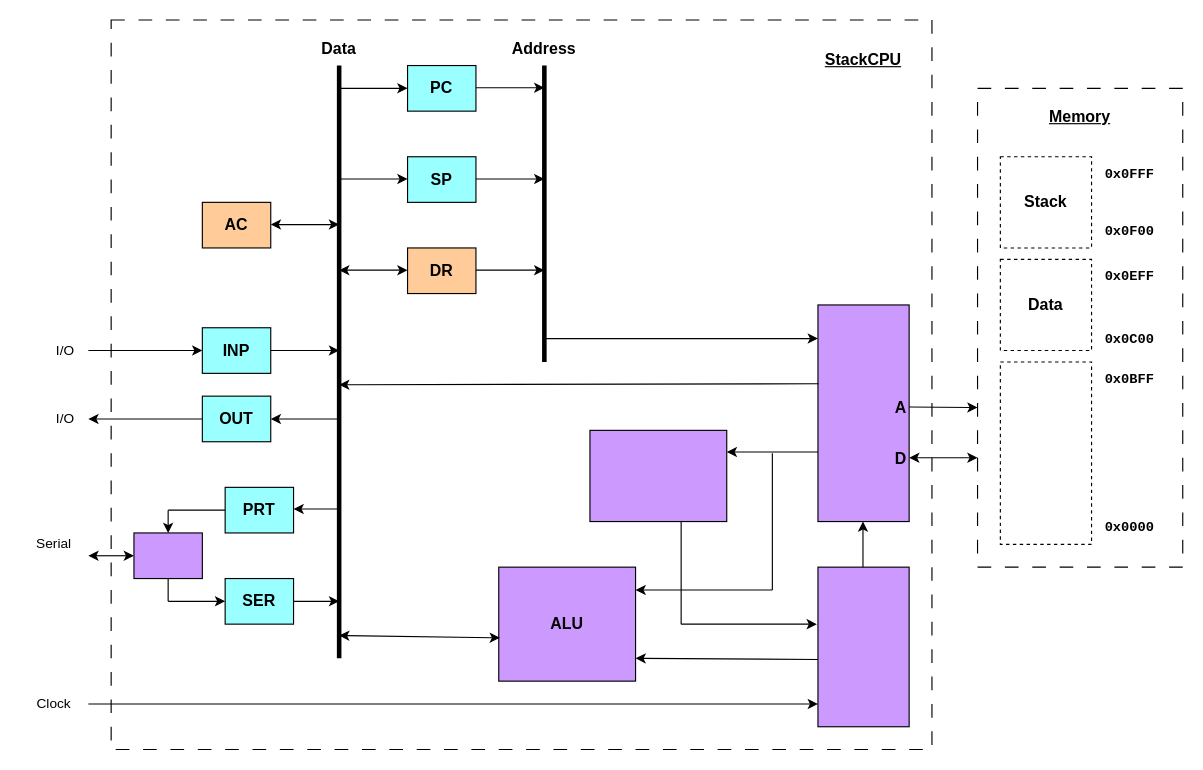
This 1203x770 diagram has some shape labels left out. Here are the shapes that lost their labels. From the top down, the box of each, then its label:
(817, 304, 909, 522): Fetch
(999, 361, 1092, 544): Program
(589, 429, 727, 522): Instruction Decoder
(133, 532, 202, 579): UART
(817, 566, 909, 727): Control SM
